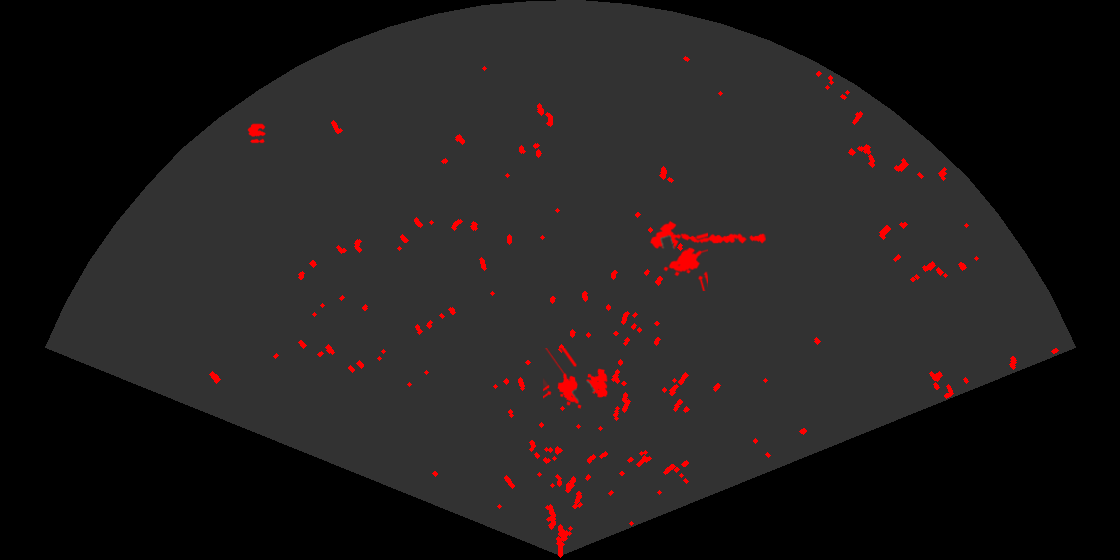ball: (246, 122, 267, 145)
cage: (648, 219, 708, 291), (543, 348, 609, 410)
chain: (678, 232, 766, 245)
